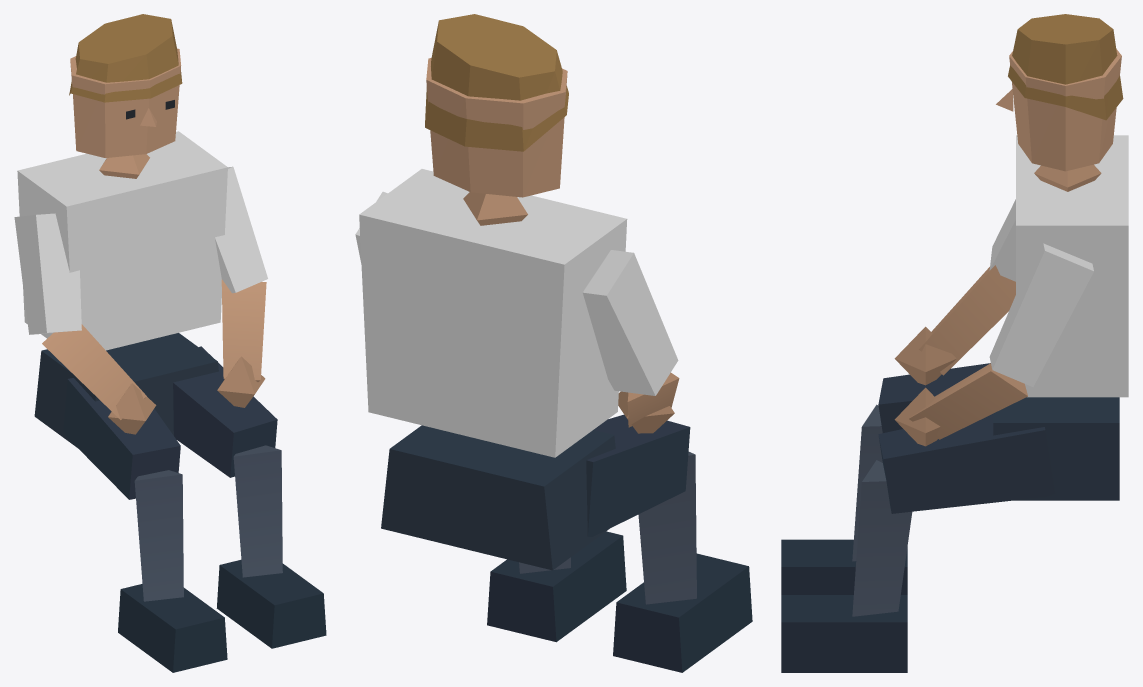
Rendered from fan-05.glb.
3 views of the same model, side by side, from view 1: azimuth 30°, elevation 25°; view 2: azimuth 150°, elevation 25°; view 3: azimuth 270°, elevation 25° (orthographic). The views are drawn at different scales.
Visible parts, largest first — view 1: fan-05; view 2: fan-05; view 3: fan-05.
Part boxes in pixels (x1,y1,x2,y2): fan-05: [14, 14, 326, 672]; fan-05: [355, 14, 752, 672]; fan-05: [781, 14, 1128, 672].
Bounding box in the file's own units: 0.6574 × 1.49 × 0.77.
